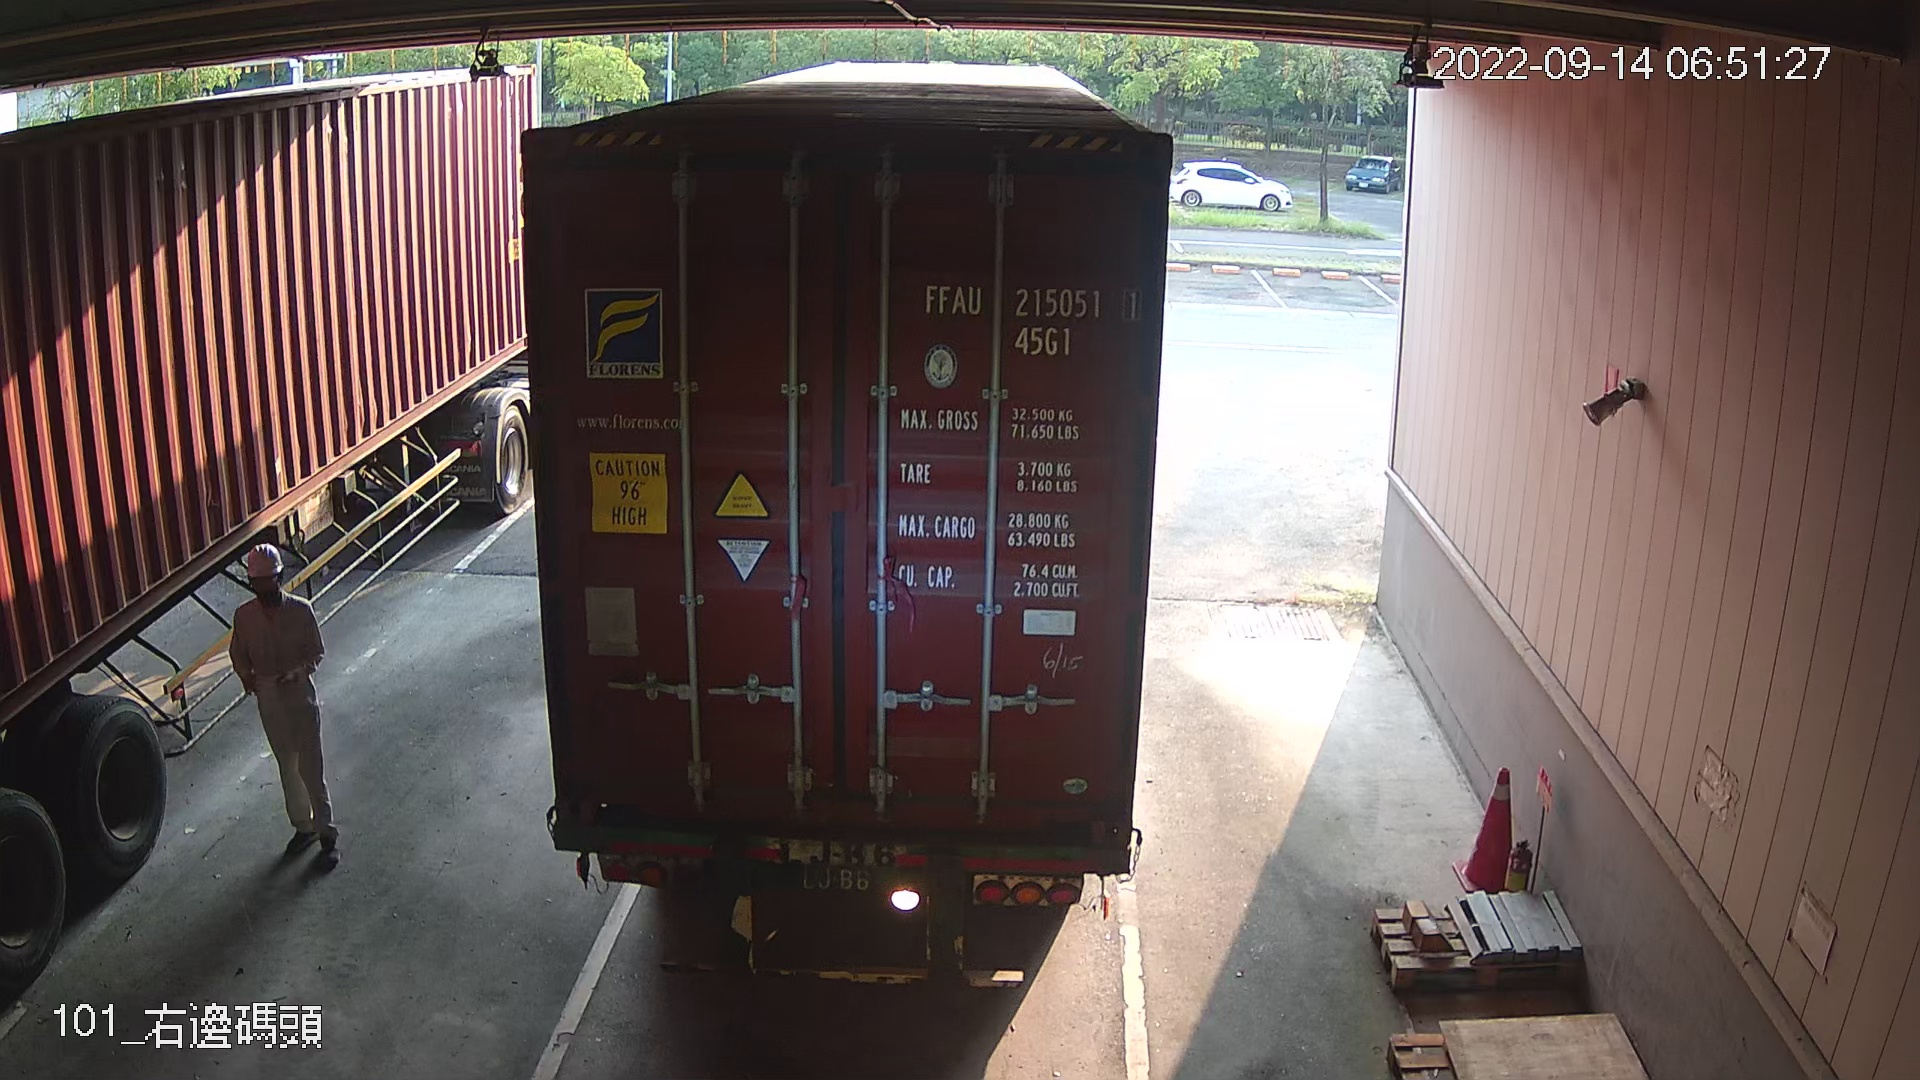container: (910, 274, 1150, 367)
